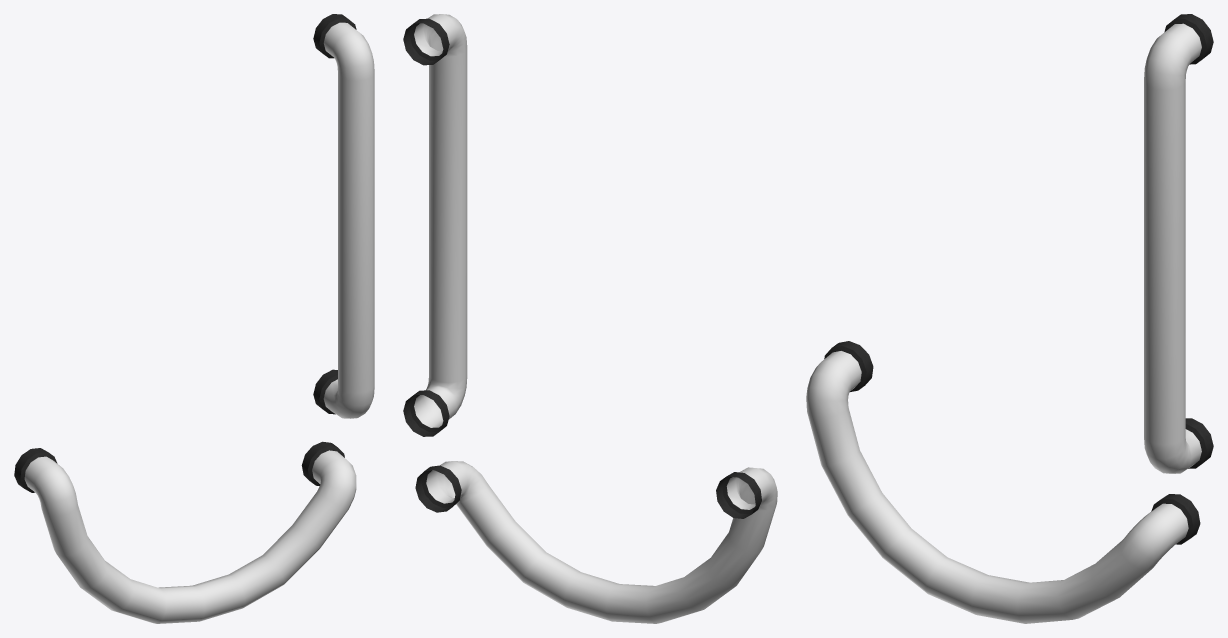
File: LettersNeon01_J.FBX
3 views of the same model, side by side, from view 1: azimuth 30°, elevation 25°; view 2: azimuth 150°, elevation 25°; view 3: azimuth 330°, elevation 25° (orthographic). The views are drawn at different scales.
Parts seen in each view (by area): view 1: LettersNeon01_J; view 2: LettersNeon01_J; view 3: LettersNeon01_J.
Part boxes in pixels (x1,y1,x2,y2): LettersNeon01_J: (14, 14, 374, 623); LettersNeon01_J: (403, 14, 777, 623); LettersNeon01_J: (806, 14, 1213, 623).
Size of what is drawn, in the model's own units: 0.3186 by 0.4959 by 0.054.
